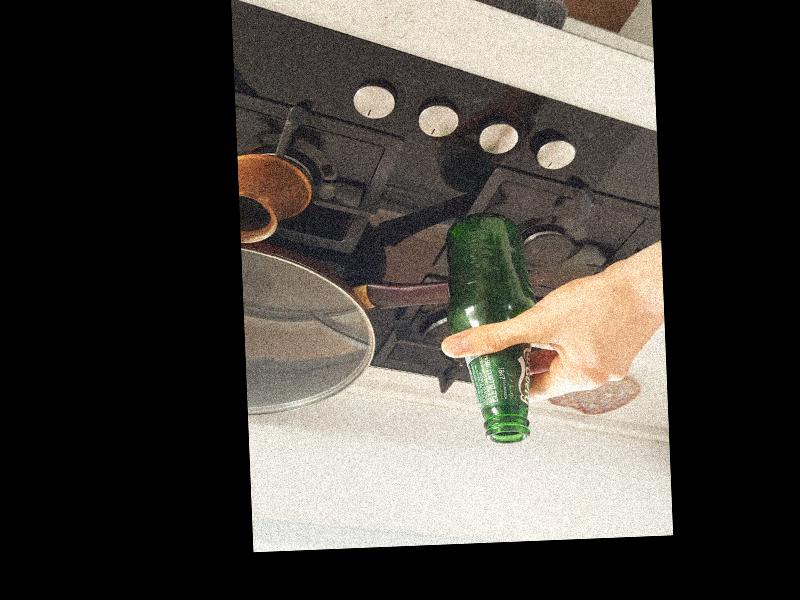Beer: (445, 212, 531, 443)
